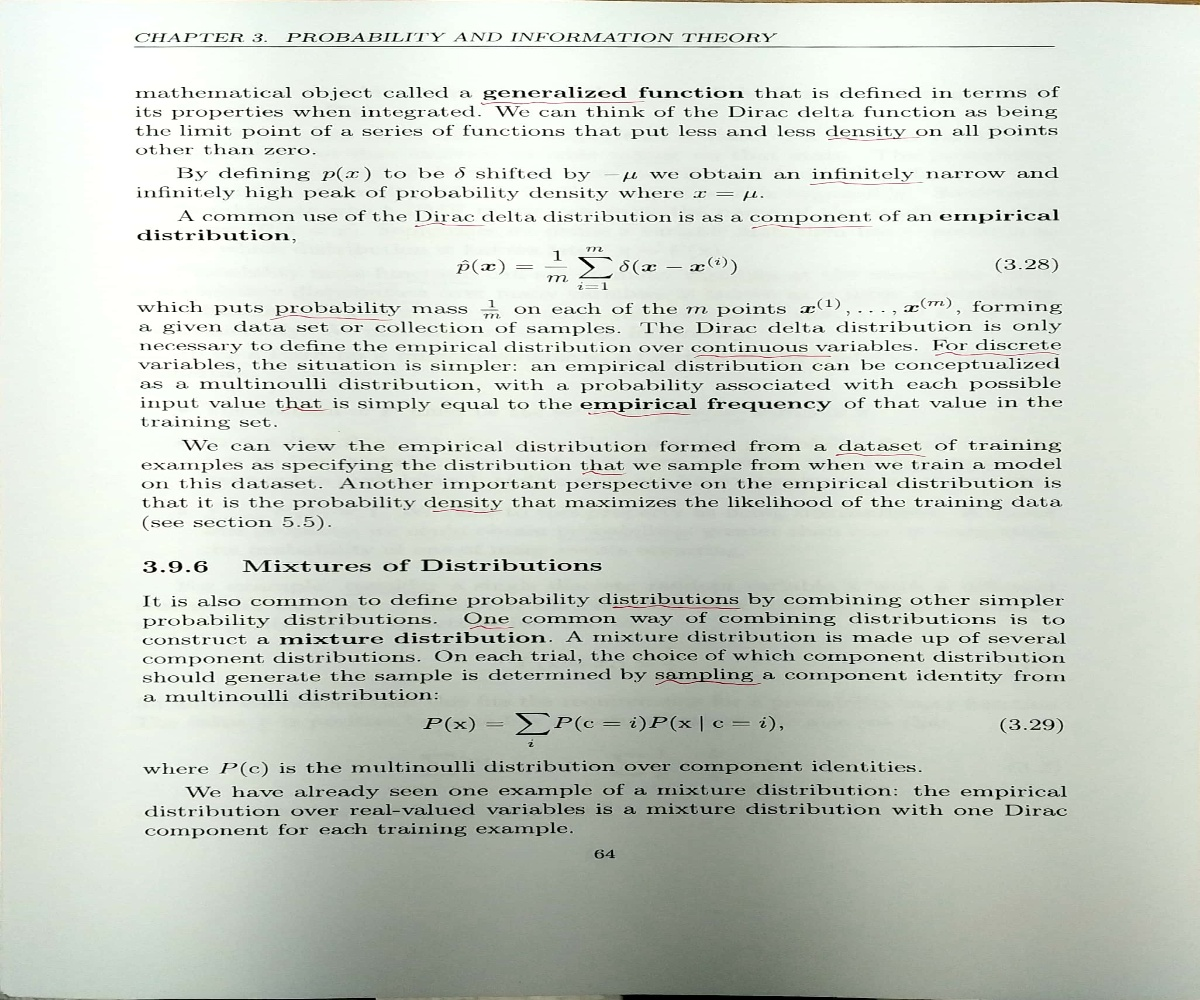underline: (263, 312, 405, 326), (577, 407, 701, 423), (689, 351, 837, 364), (606, 599, 743, 613), (475, 96, 649, 107), (739, 221, 875, 235), (651, 676, 765, 692), (803, 177, 931, 190), (832, 449, 930, 462), (823, 134, 929, 145), (406, 220, 491, 232), (424, 506, 504, 518), (269, 403, 332, 418), (463, 619, 517, 633), (575, 468, 631, 480)
